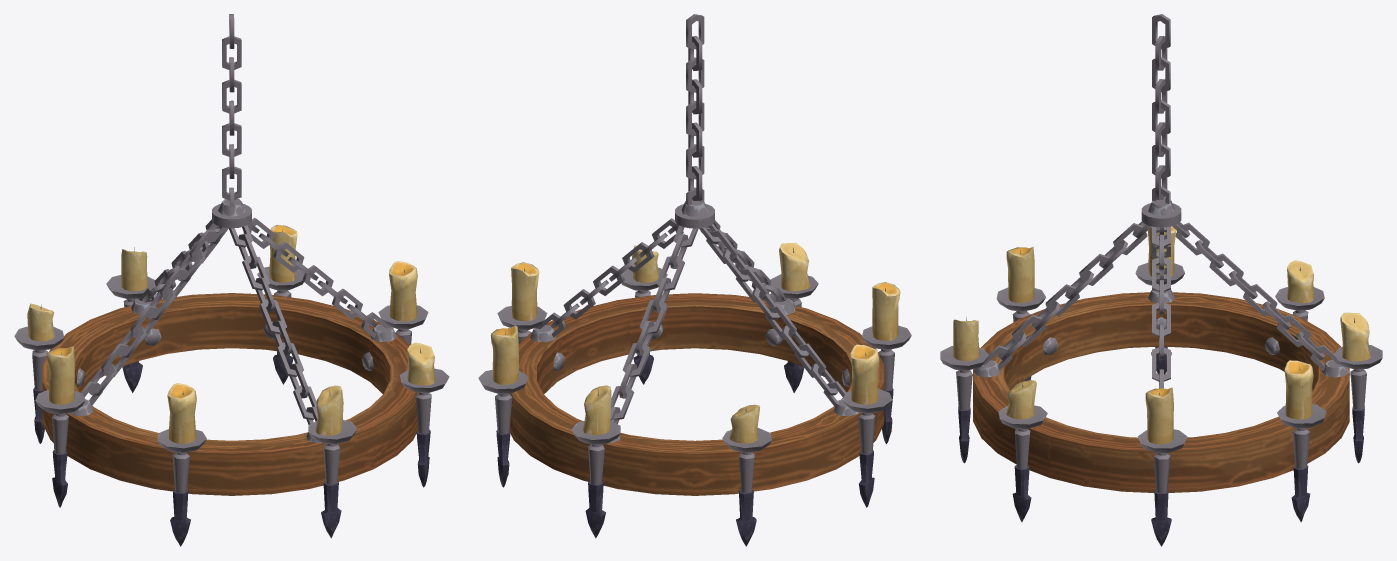
Rendered from chandelier.glb.
3 views of the same model, side by side, from view 1: azimuth 30°, elevation 25°; view 2: azimuth 150°, elevation 25°; view 3: azimuth 270°, elevation 25° (orthographic).
Visible parts, largest first — view 1: Chandelier; view 2: Chandelier; view 3: Chandelier.
Boxes of the visible parts, <box> form: Chandelier: <box>14,14,449,546</box>; Chandelier: <box>478,14,911,546</box>; Chandelier: <box>940,14,1382,546</box>.
Bounding box in the file's own units: 1.3 × 1.46 × 1.3.
Materials: 3 (3 with a texture image).
